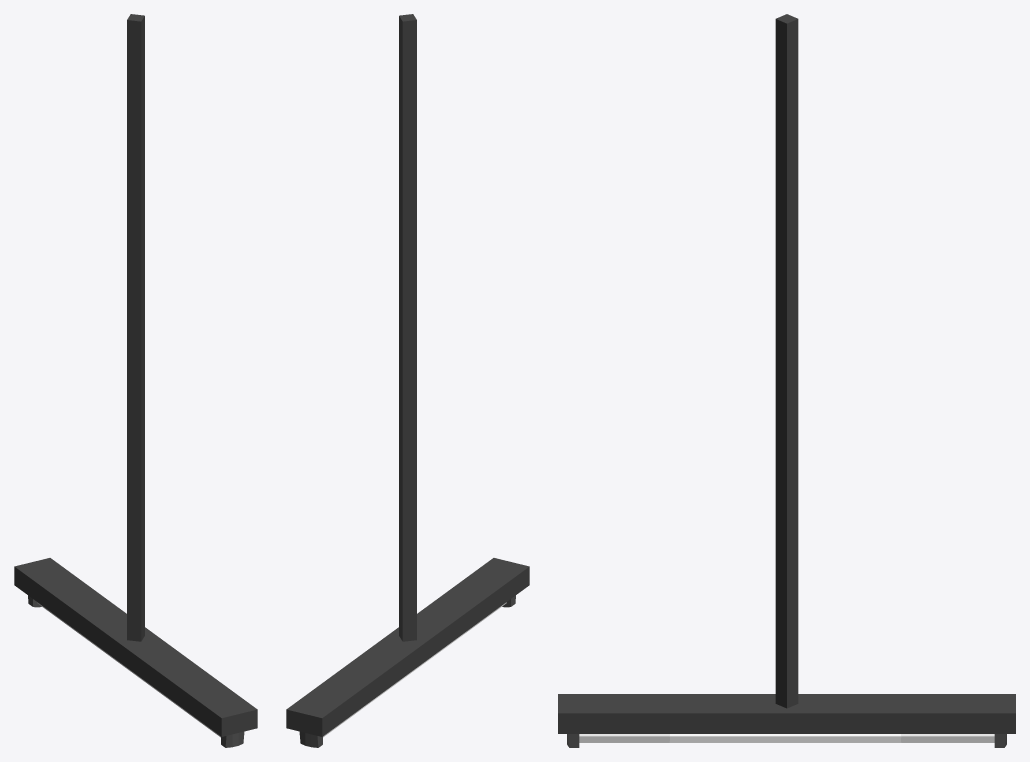
Rendered from lamp.glb.
3 renders of one model, left to right at view 1: azimuth 30°, elevation 25°; view 2: azimuth 150°, elevation 25°; view 3: azimuth 270°, elevation 25°, orthographic. The views are drawn at different scales.
Parts seen in each view (by area): view 1: Base; view 2: Base; view 3: Base, Lamp.
Boxes of the visible parts, x1=… form: Base: x1=14, y1=14, x2=257, y2=747; Base: x1=286, y1=14, x2=529, y2=747; Base: x1=558, y1=14, x2=1015, y2=747; Lamp: x1=579, y1=734, x2=994, y2=742.
Size of the model in its own units: 2 by 35 by 20.
Materials: 1 (1 with a texture image).
